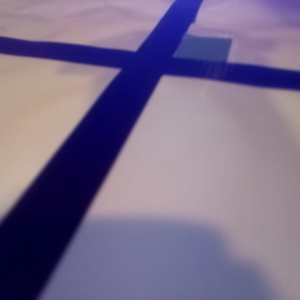top_right: (149, 33, 232, 74)
